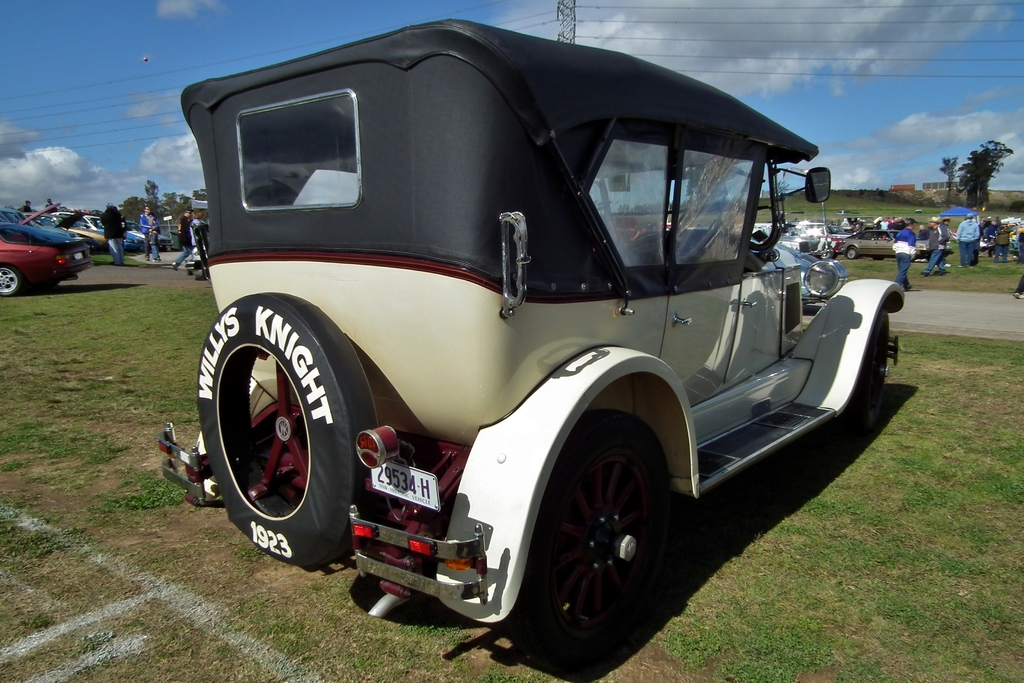Car: (156, 15, 907, 674), (0, 208, 94, 297), (835, 224, 913, 260)
